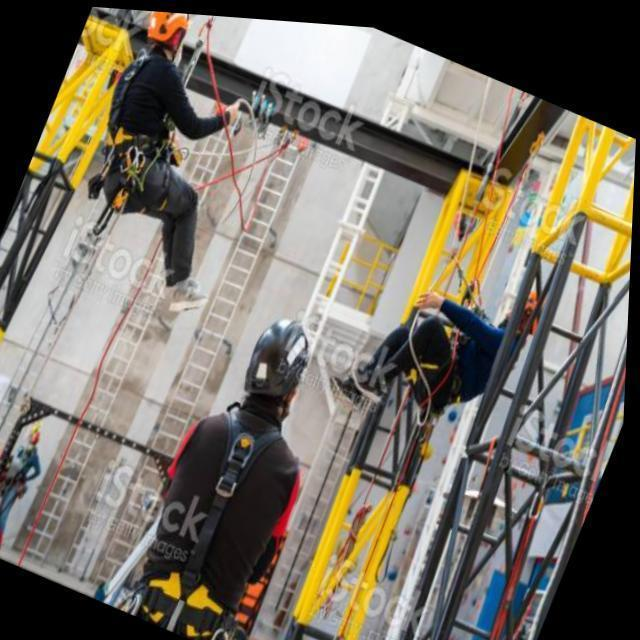Harness: (181, 411, 282, 602)
